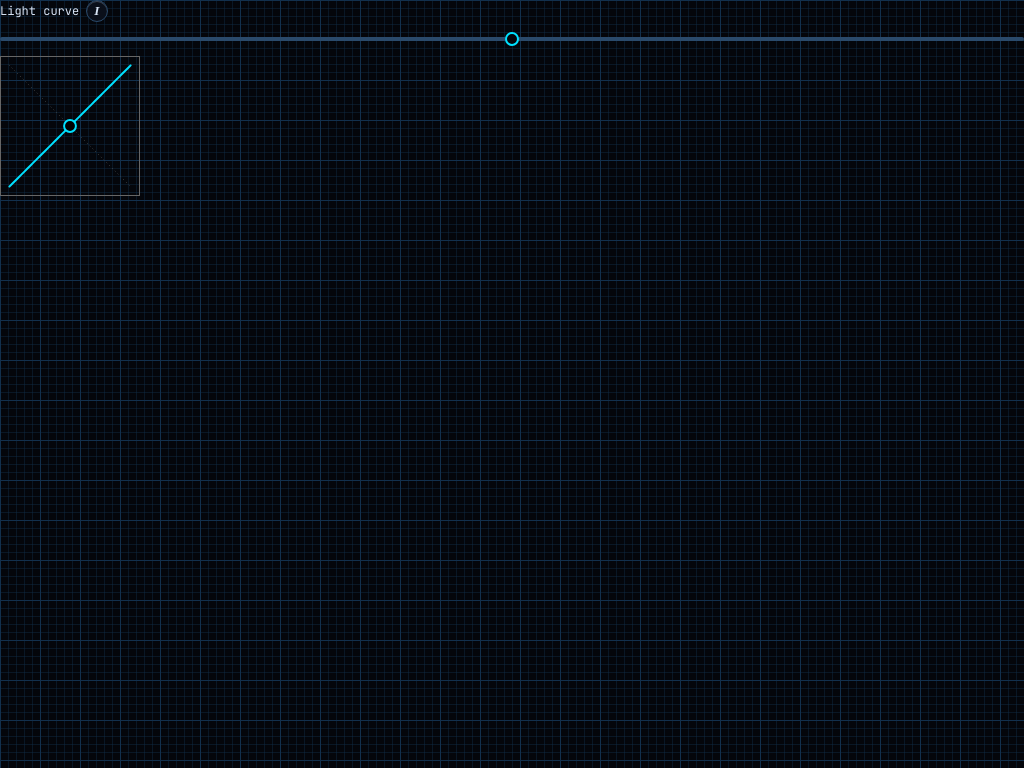
Test: ToneCurveEditor › keeps detail in the (i) popup with before/after example images
This screenshot has width=1024, height=768.
What coordinates should you click on to do the following:
click the button named "About Light curve"
I would click on:
 (97, 11)
Its box is [86, 0, 108, 22].
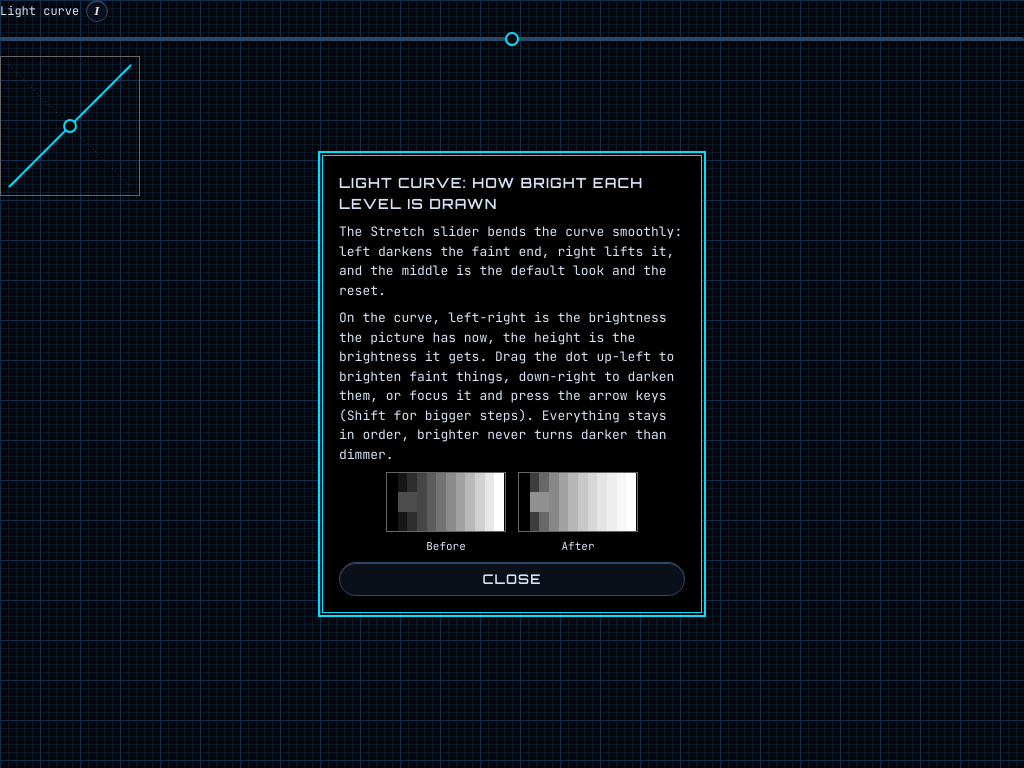
Expected: the dialog shows "brightness", [339, 309, 674, 462]
Expected: the picture named "before" is shown, [386, 472, 506, 532]
Expected: the picture named "after" is shown, [518, 472, 638, 532]
